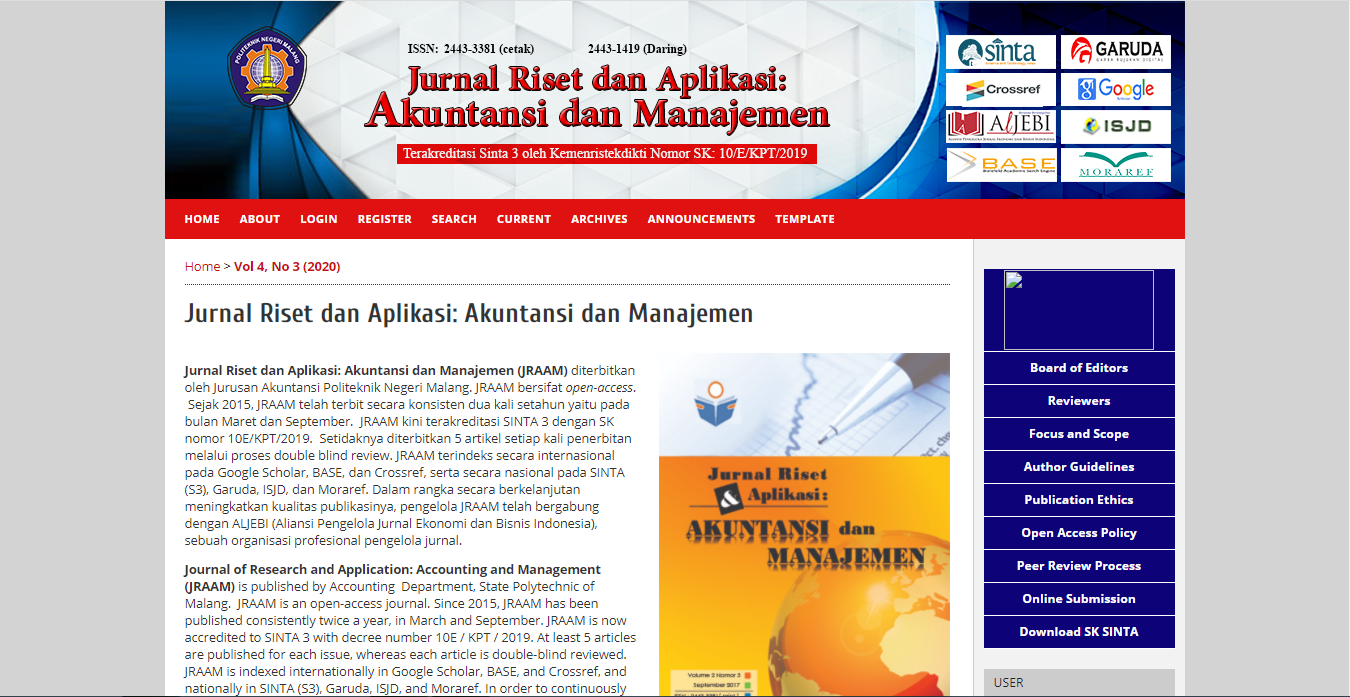Image: (165, 2, 1183, 199), (656, 350, 953, 697), (945, 74, 1056, 108), (1061, 72, 1172, 106), (1061, 110, 1171, 144), (945, 36, 1058, 69), (946, 110, 1056, 143), (1062, 36, 1171, 69), (948, 148, 1056, 181), (1061, 148, 1171, 180)
Menu Bar: (166, 201, 842, 238)
Nav Bar: (1018, 353, 1138, 381), (1021, 457, 1136, 479), (1024, 423, 1131, 446), (1015, 559, 1143, 575), (1022, 492, 1134, 509), (1020, 526, 1137, 542), (1016, 624, 1140, 639), (1033, 391, 1121, 412), (1021, 592, 1138, 606)
Side Bar: (973, 239, 1189, 697)
